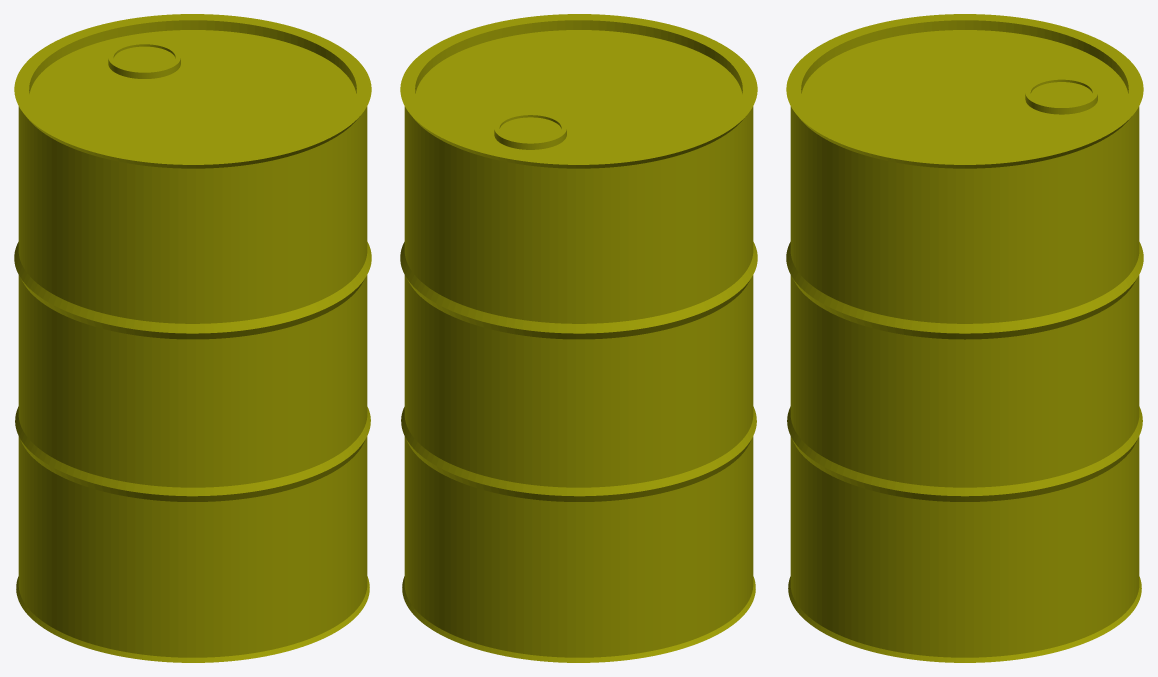
The model's file is toxic_barrel.glb.
3 views of the same model, side by side, from view 1: azimuth 30°, elevation 25°; view 2: azimuth 150°, elevation 25°; view 3: azimuth 270°, elevation 25° (orthographic).
Visible parts, largest first — view 1: Cylinder; view 2: Cylinder; view 3: Cylinder.
Part boxes in pixels (box(x1,y1,x2,y2)): Cylinder: box(14, 14, 371, 662); Cylinder: box(400, 14, 757, 662); Cylinder: box(786, 14, 1143, 662).
Size of the model in its own units: 2.05 by 3.16 by 2.05.
